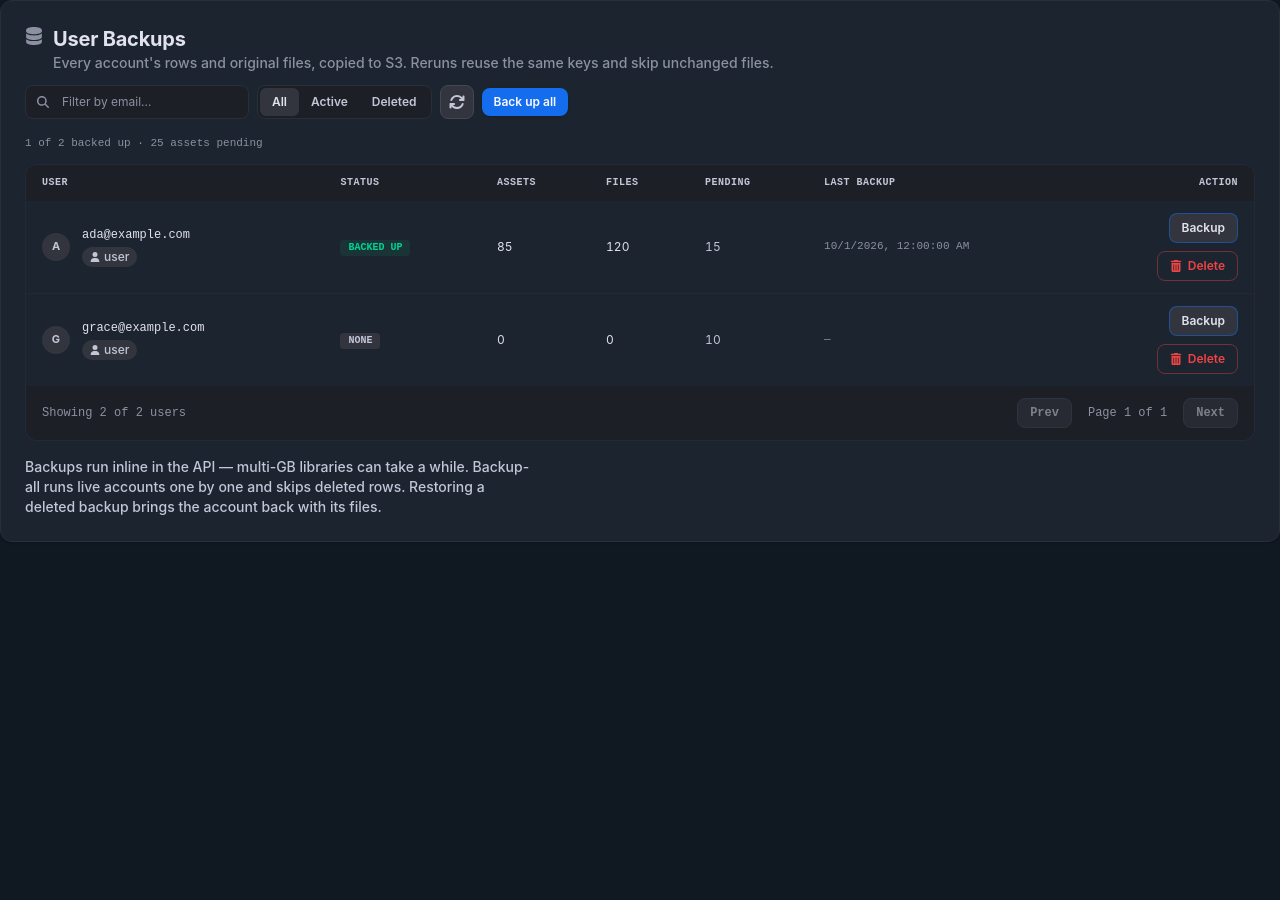
Test: BackupSection table › shows the all-skipped note when every file was already backed up
Expected: the text "ada@example.com" is shown, [82, 226, 190, 242]
Expected: the text "grace@example.com" is shown, [82, 320, 204, 336]
Click the button with aria-label "Back up ada@example.com" at (1203, 228), box [1168, 212, 1238, 242]
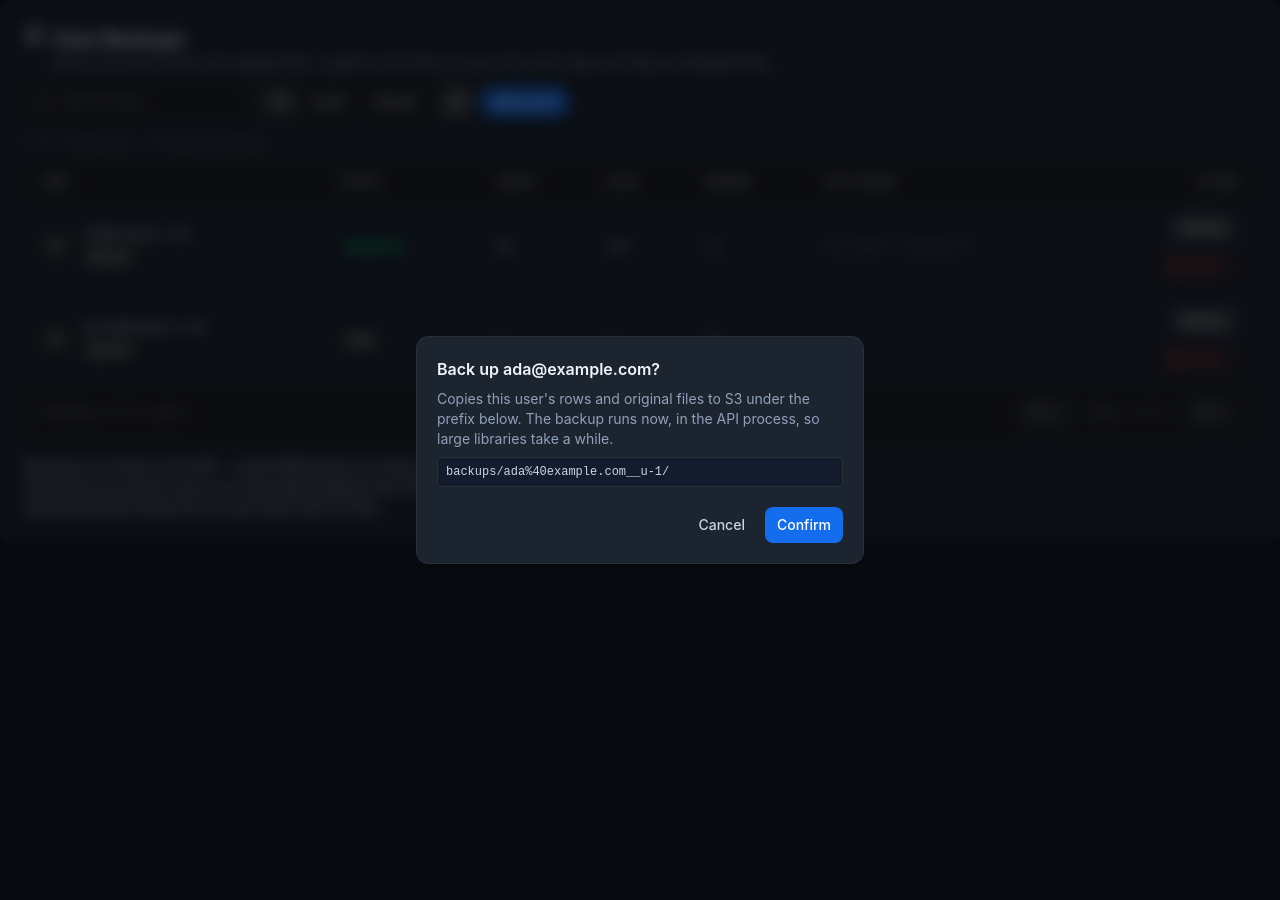
Click the button "Confirm" at (804, 525), box [765, 507, 843, 543]
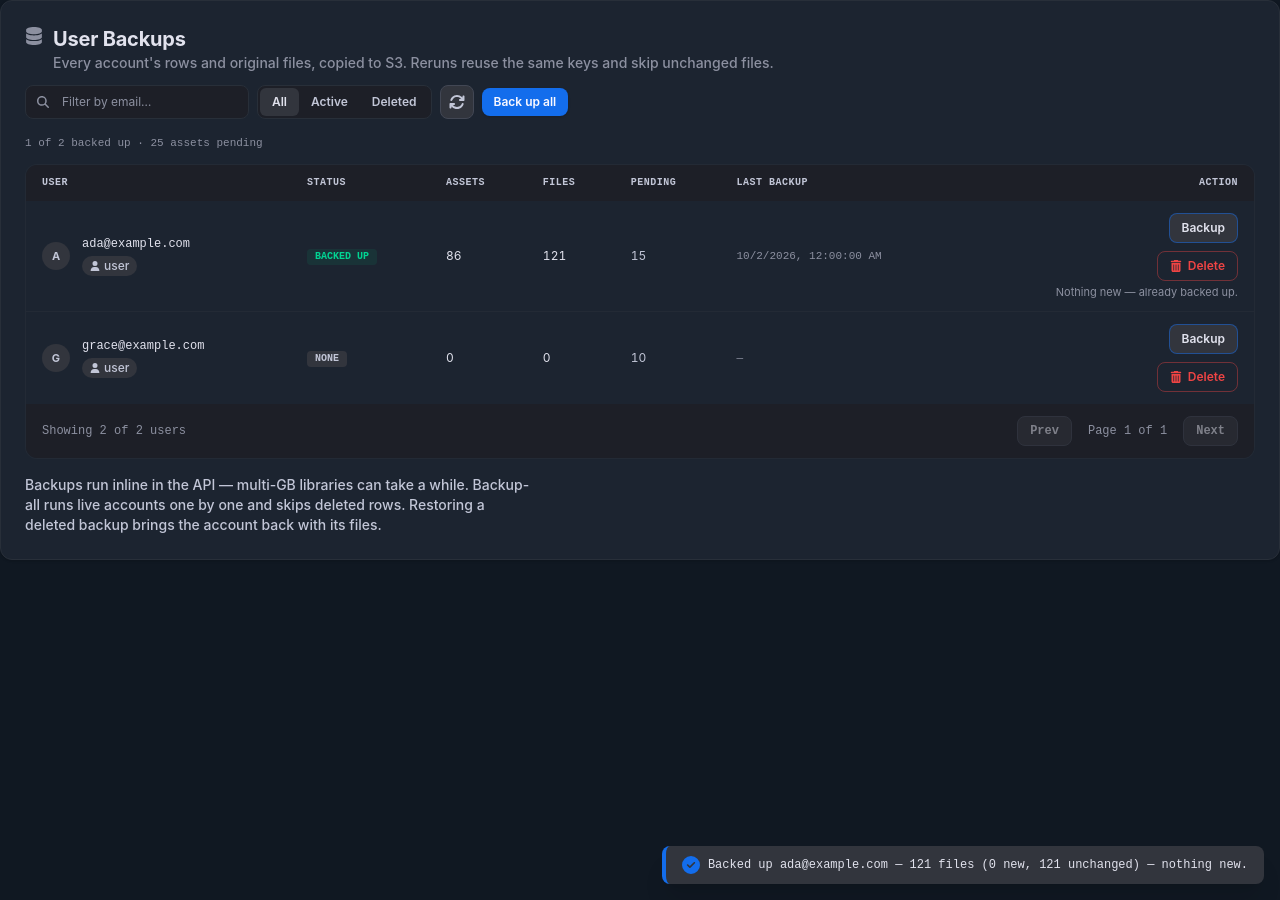
Result: the text "Nothing new — already backed up." is shown at [1056, 284, 1238, 298]
